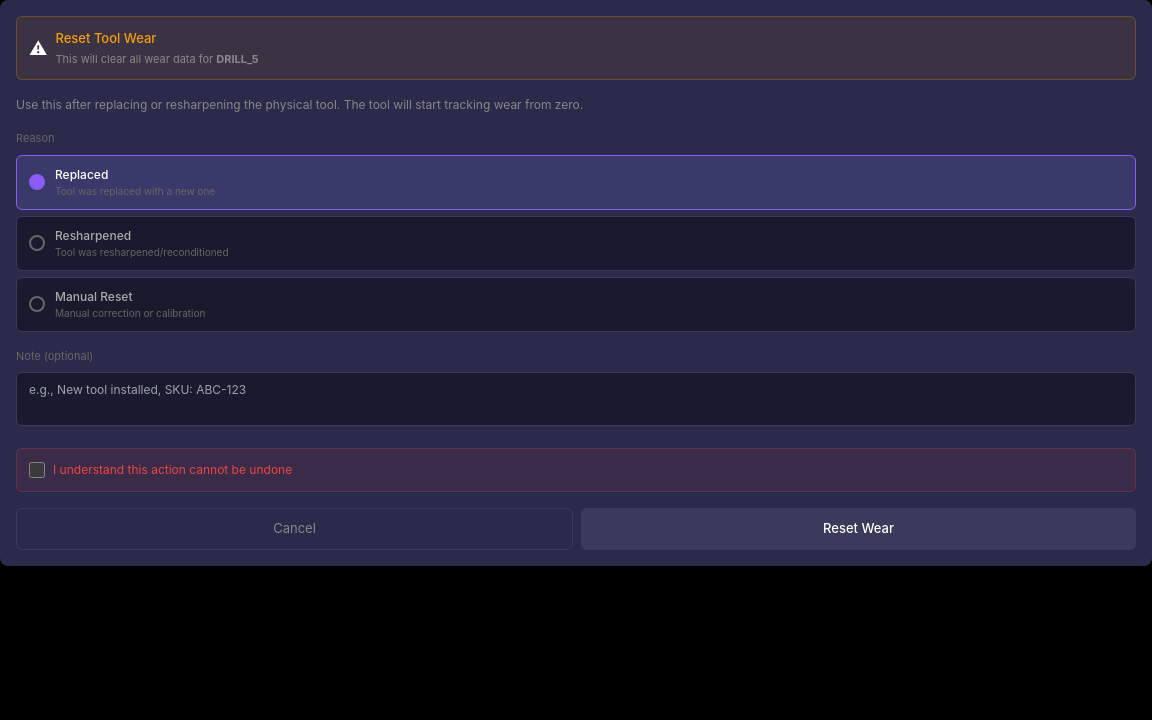
Scenario: ToolResetButton › Confirmation checkbox › enables Reset button when checked
Click the checkbox. click: (37, 470)
box: [29,462,45,478]
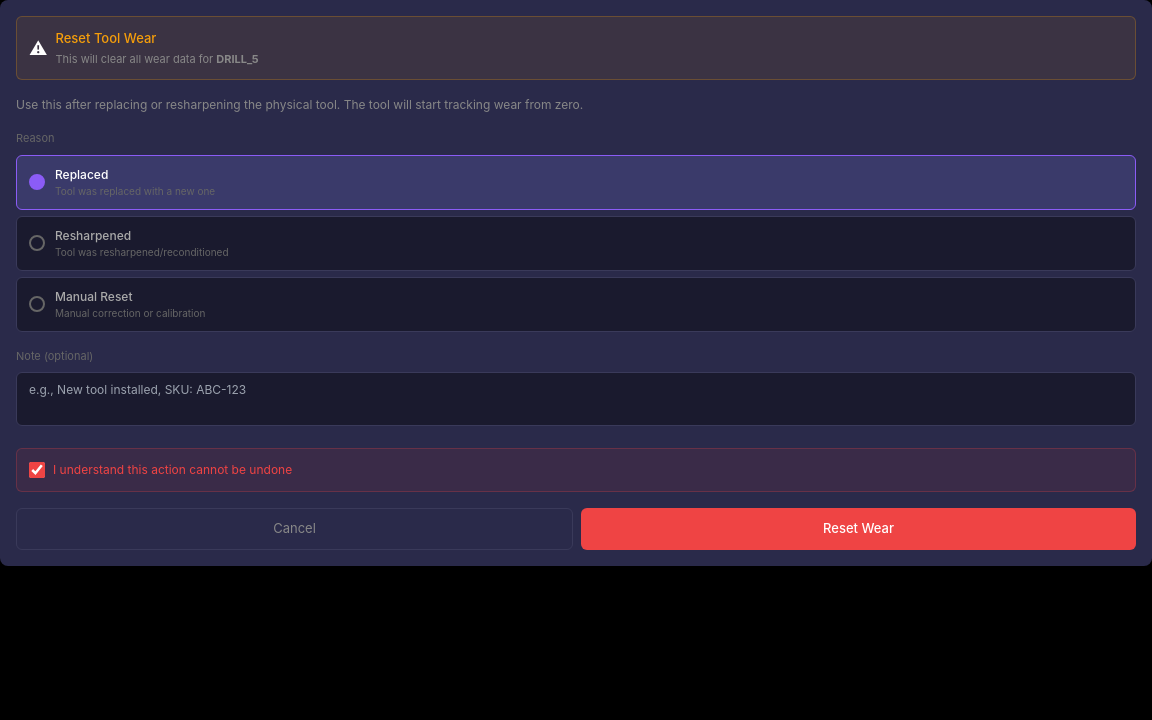
expect the button "Reset Wear" is enabled: met, box [581,508,1136,550]
